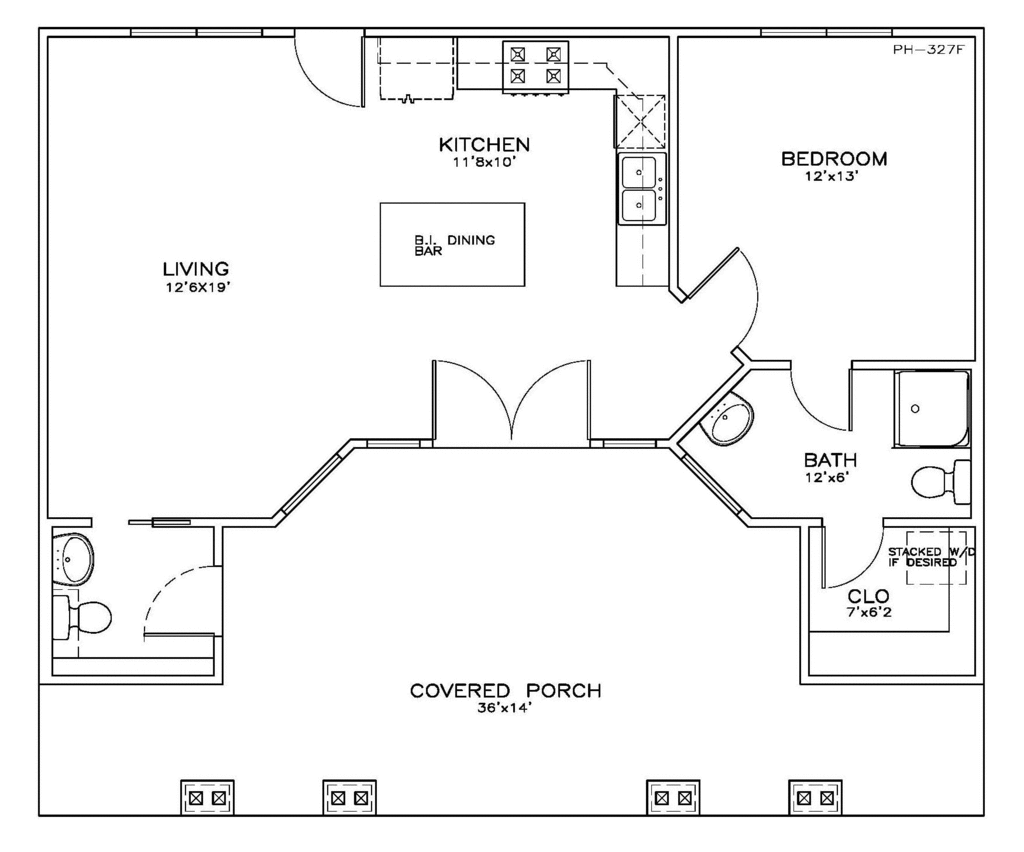door: (428, 360, 592, 447), (688, 243, 769, 346), (294, 27, 368, 110), (147, 565, 222, 634), (785, 360, 855, 430), (816, 523, 889, 588)
kitchen_bar: (459, 39, 672, 148)
large_sink: (902, 454, 968, 510), (56, 589, 111, 647)
small_sink: (695, 385, 769, 447), (55, 533, 99, 588)
twin_sink: (623, 155, 666, 248)
window: (763, 23, 894, 40), (132, 25, 259, 39)
